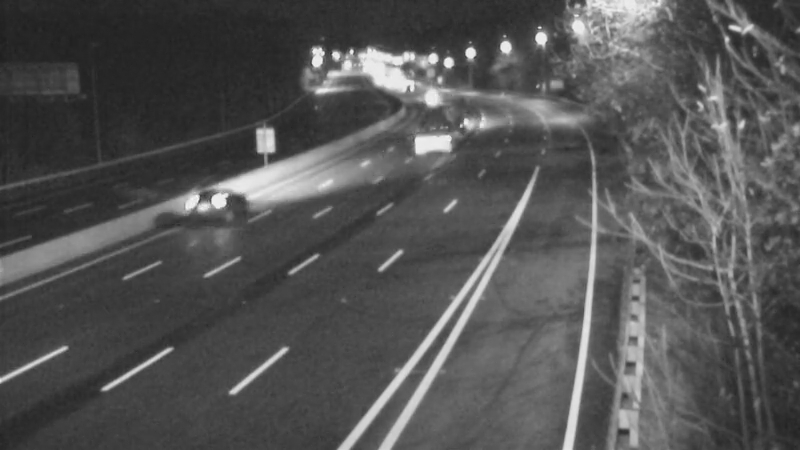vehicle: (172, 164, 252, 244), (381, 63, 431, 113), (408, 76, 458, 126), (407, 101, 457, 151)
